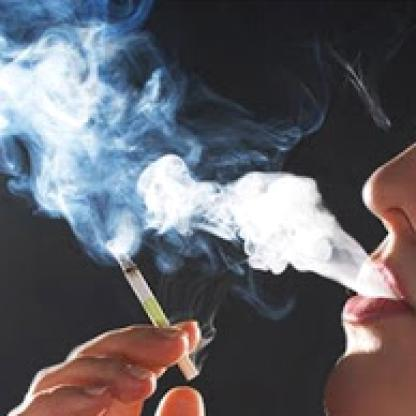cigarette: (113, 256, 198, 382)
smoke: (0, 0, 158, 249), (135, 158, 336, 276)
